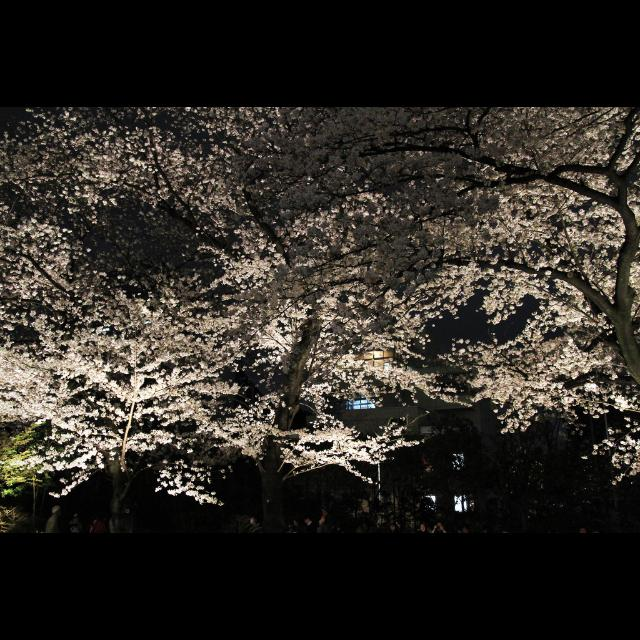Flower: (1, 108, 640, 504)
